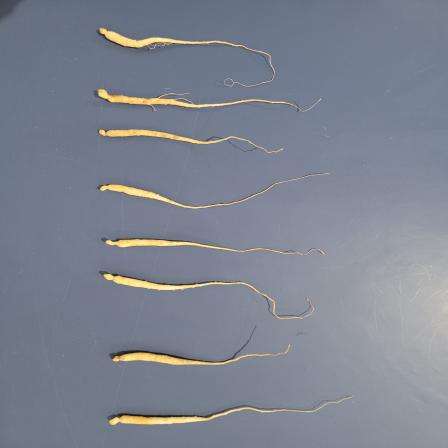Ginseng: (93, 27, 275, 87), (97, 272, 314, 321), (94, 172, 330, 211), (105, 396, 353, 428), (101, 236, 324, 262), (93, 87, 322, 111), (95, 127, 285, 155), (104, 348, 300, 368)
head: (95, 88, 115, 104), (103, 272, 119, 284), (108, 416, 124, 426), (104, 239, 120, 248), (98, 28, 112, 38), (98, 128, 112, 138), (98, 182, 112, 192), (111, 354, 124, 364)
